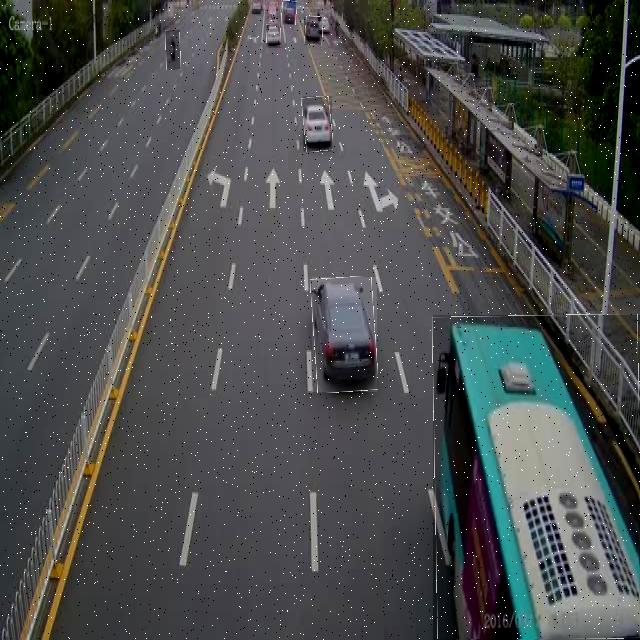Bus: (433, 315, 640, 640)
Car: (312, 277, 377, 392), (303, 96, 332, 152), (304, 17, 322, 45), (281, 0, 296, 25), (267, 24, 281, 46)
Motorcycle: (166, 30, 180, 70)
